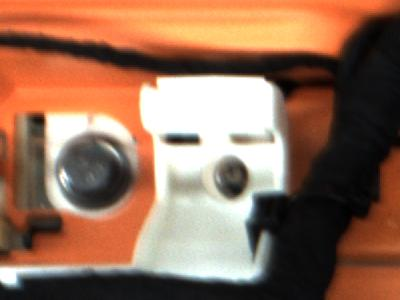nut_b: (45, 124, 135, 214)
